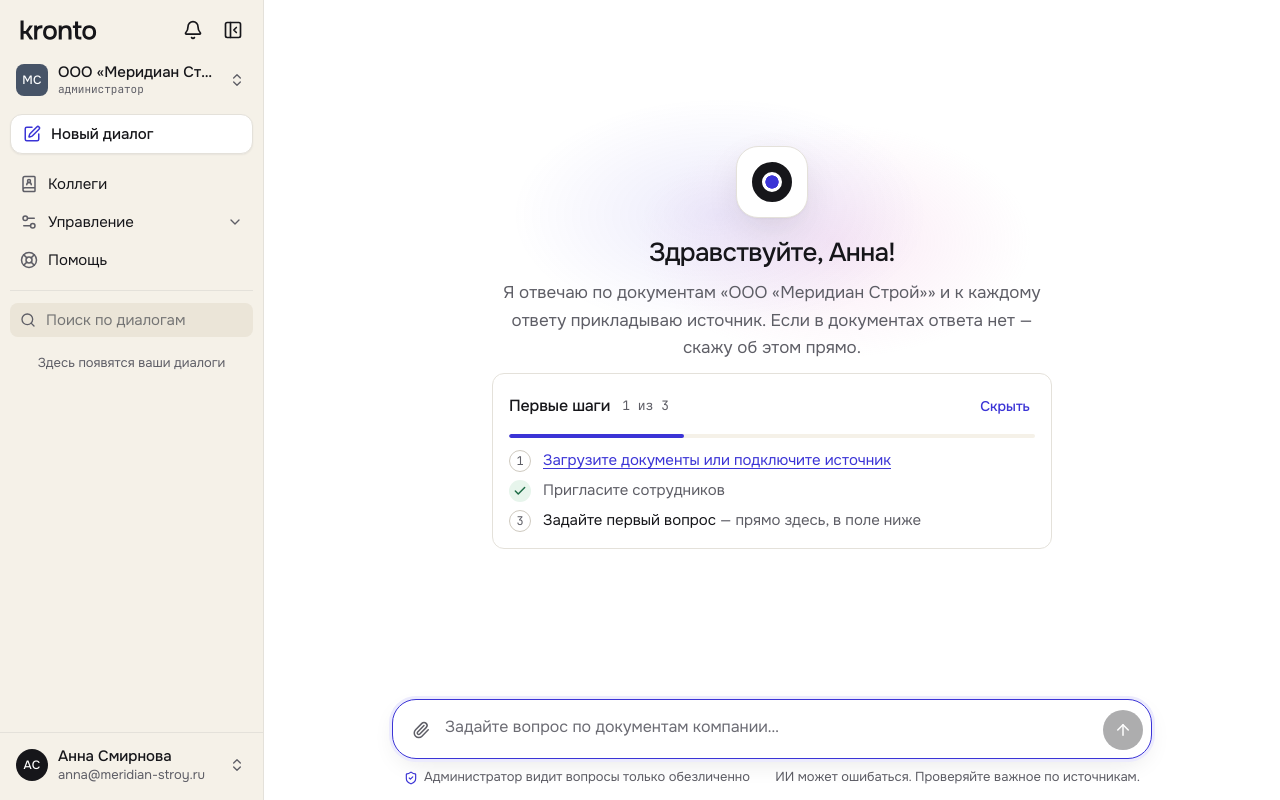
Test case: первые шаги администратора › «Скрыть» прячет чек-лист и запоминает это на сервере
Check: the text "1 из 3" is shown, box [622,396,669,415]
Click the button with aria-label "Скрыть первые шаги" at [1005, 406], box [967,390,1043,422]
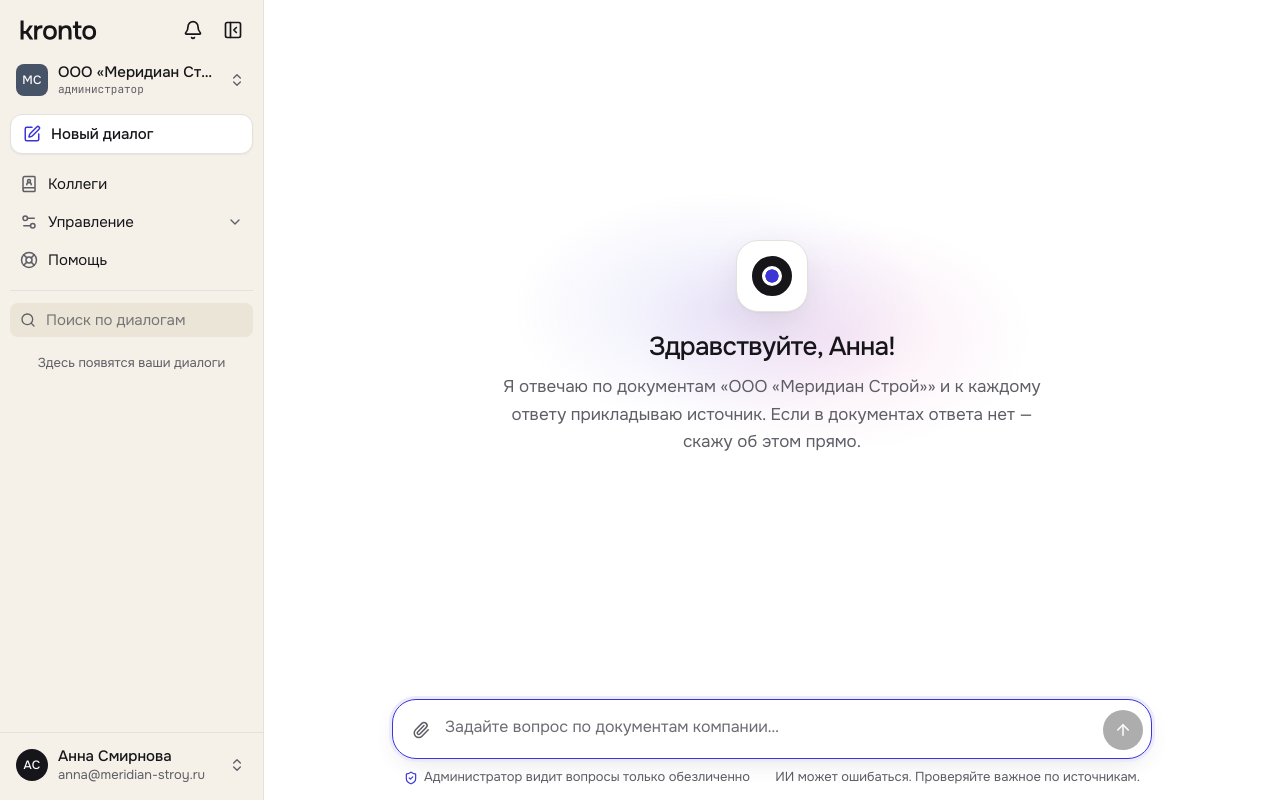
Check: the heading "Первые шаги" is gone
